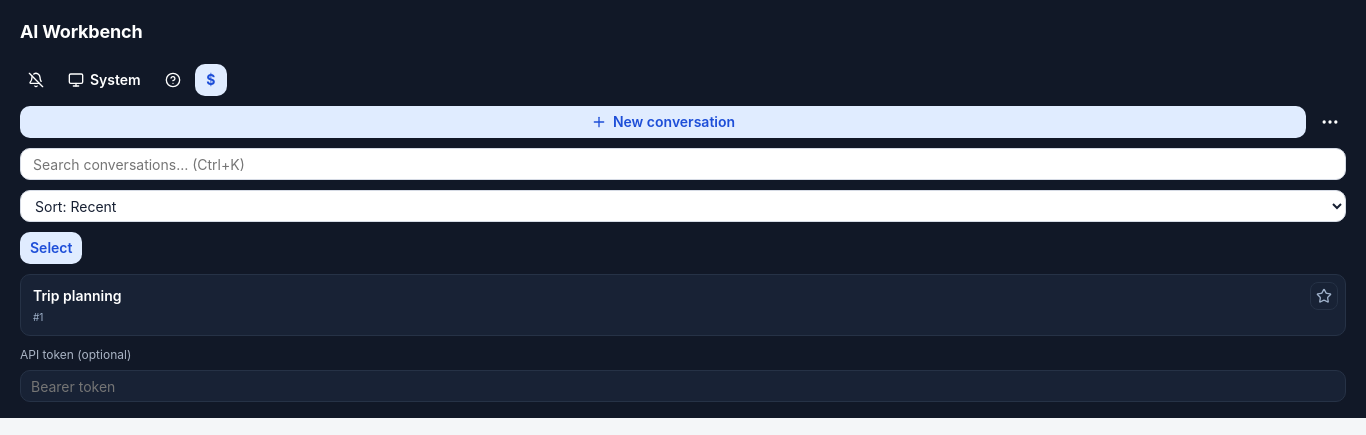
Test: Sidebar › gives the Show archived and Favorites only checkboxes real accessible names, not 'on'
Click the button named "More conversation-list actions" at (1330, 122), box 1314,106 -> 1346,138
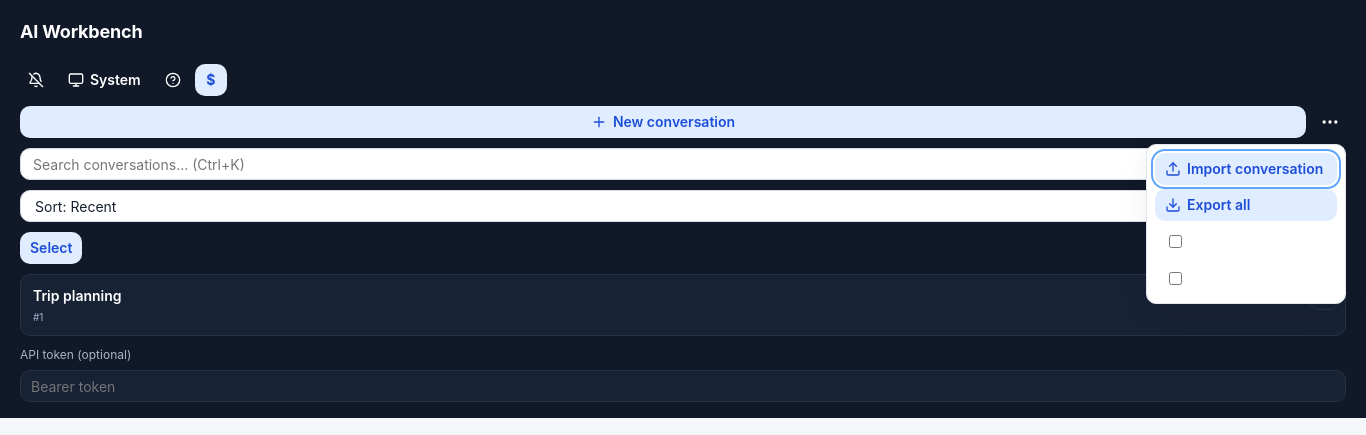
Expected: the checkbox named "Show archived conversations" is shown, 1169,235 -> 1182,248
Expected: the checkbox labelled "Favorites only" is shown, 1169,272 -> 1182,285
